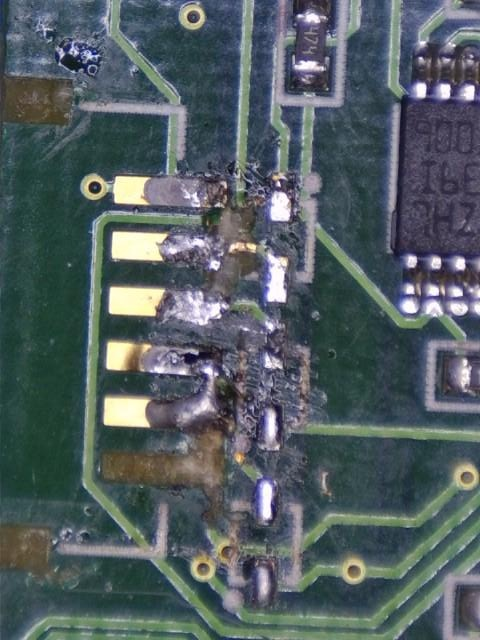pcb_defect: (102, 426, 227, 529), (104, 342, 222, 433), (0, 76, 73, 127), (205, 253, 257, 296), (219, 201, 258, 243)
